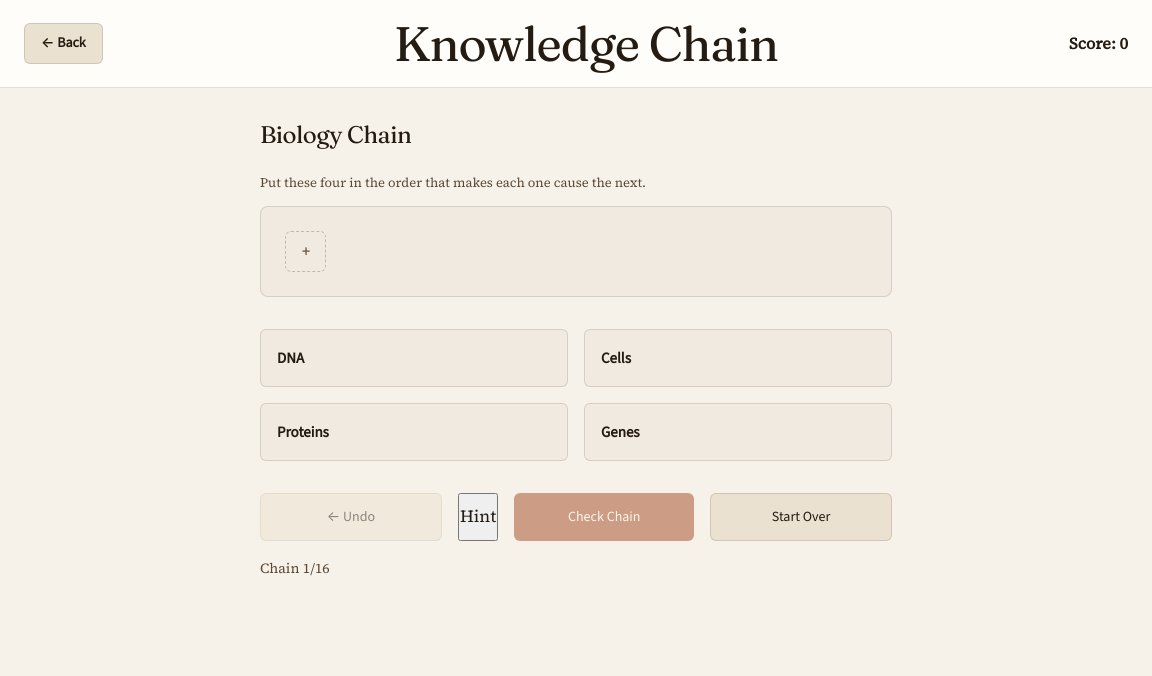
Test case: Knowledge Chain › the correct order is accepted and scores
Click the button "DNA".
click(291, 358)  # box [260,329,568,387]
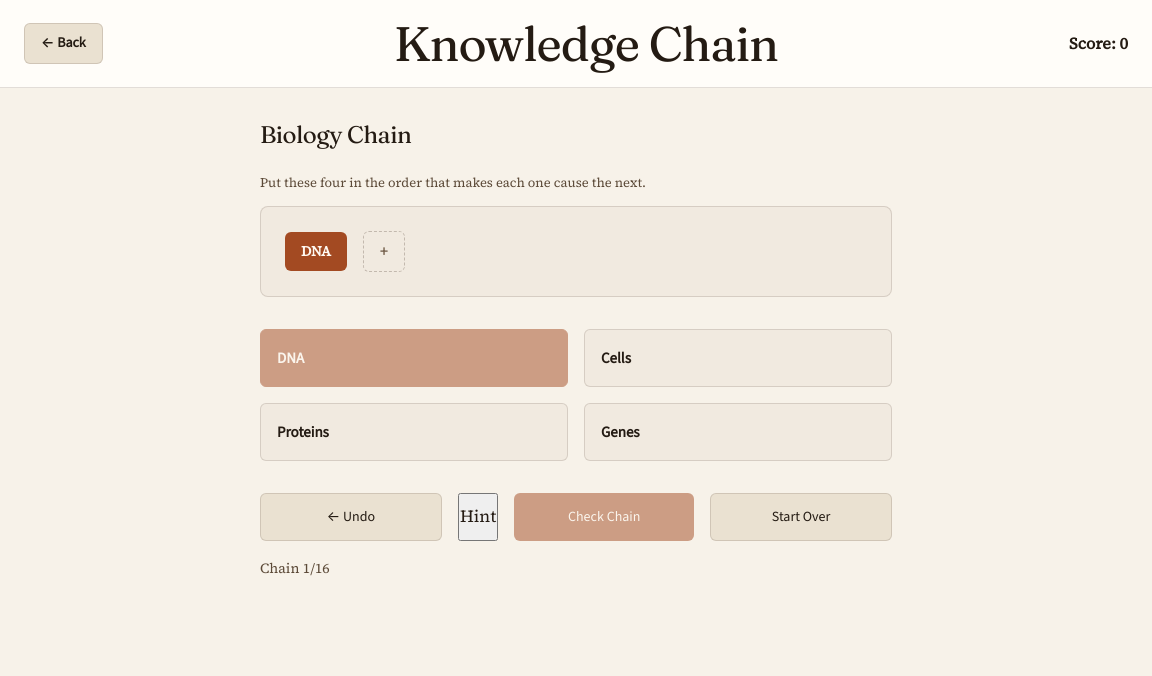
Click the button "Genes".
click(620, 432)  # box [584,403,892,461]
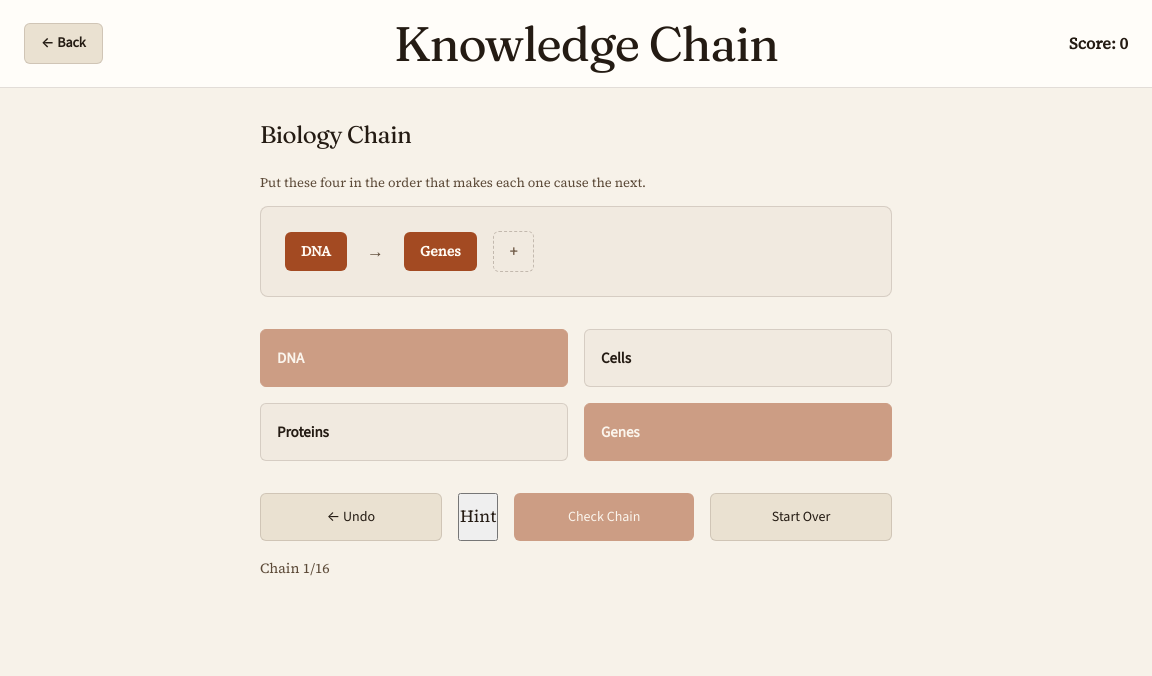
Click the button "Proteins".
click(303, 432)  # box [260,403,568,461]
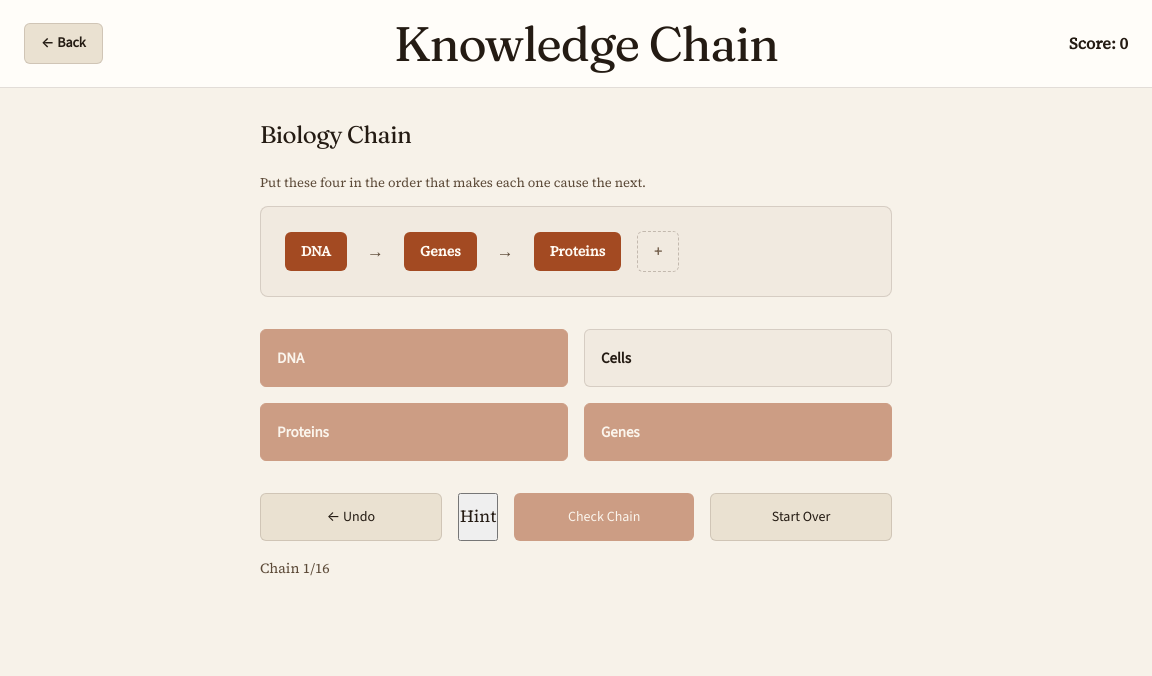
Click the button "Cells".
click(616, 358)  # box [584,329,892,387]
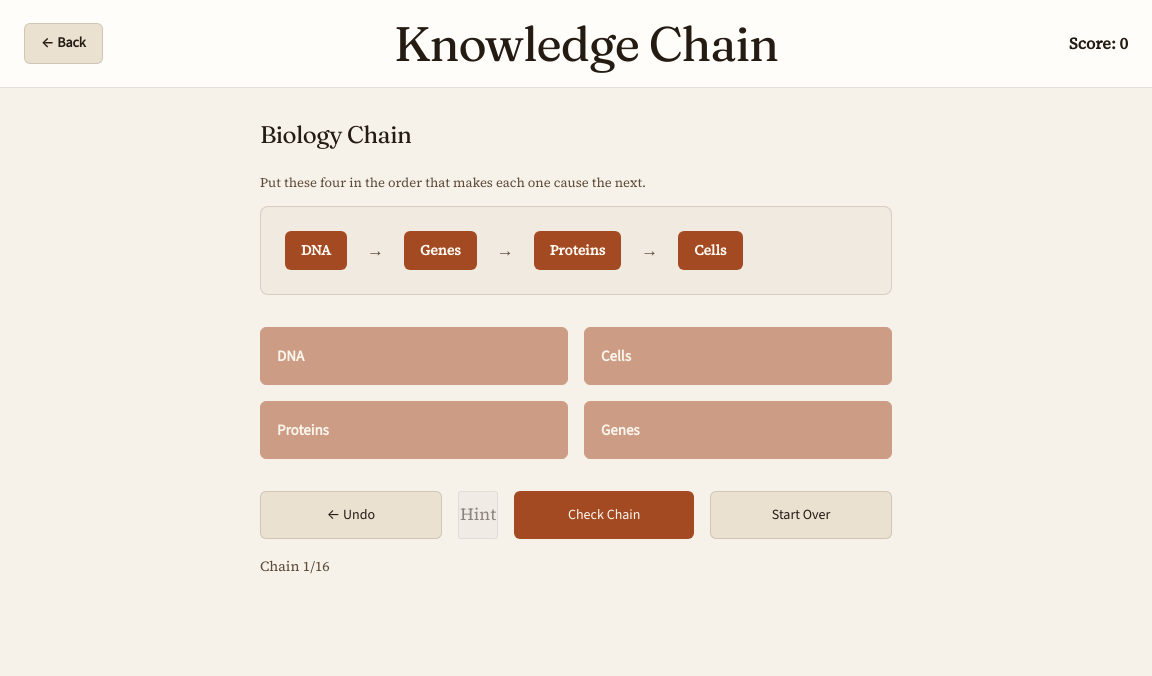
Click the button "Check Chain".
click(604, 515)  # box [514,491,694,539]
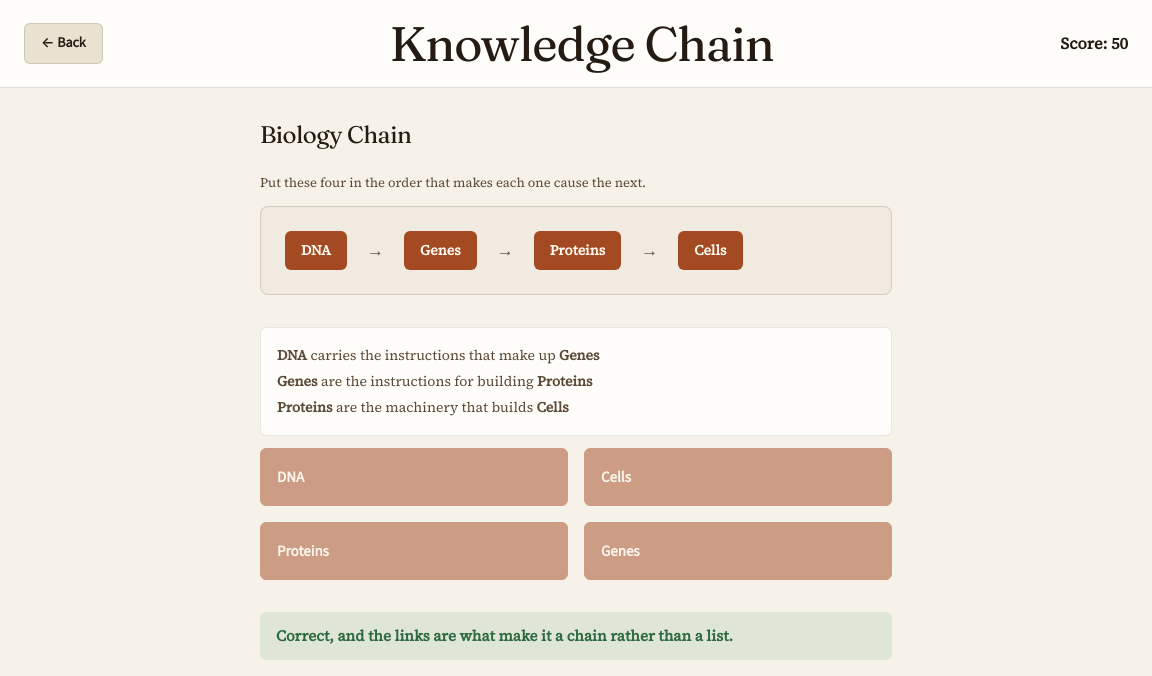
Expected: the text "Score: 50" is shown, [1060,31,1128,56]
